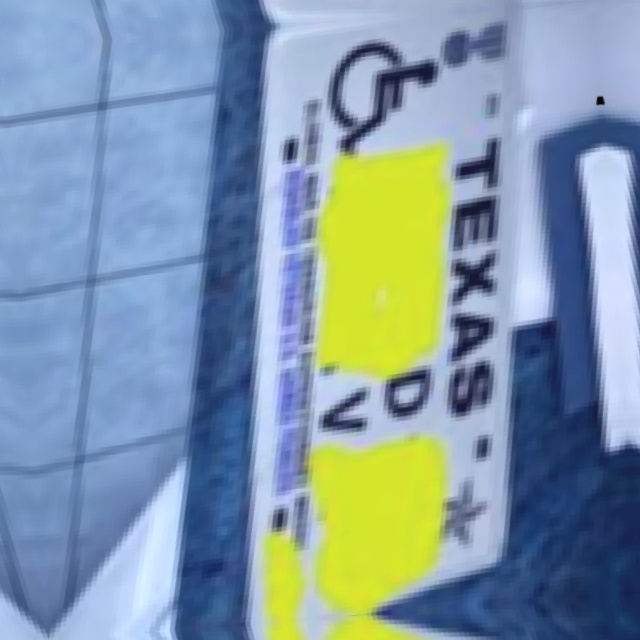ISA: (313, 27, 458, 158), (301, 0, 446, 7)
